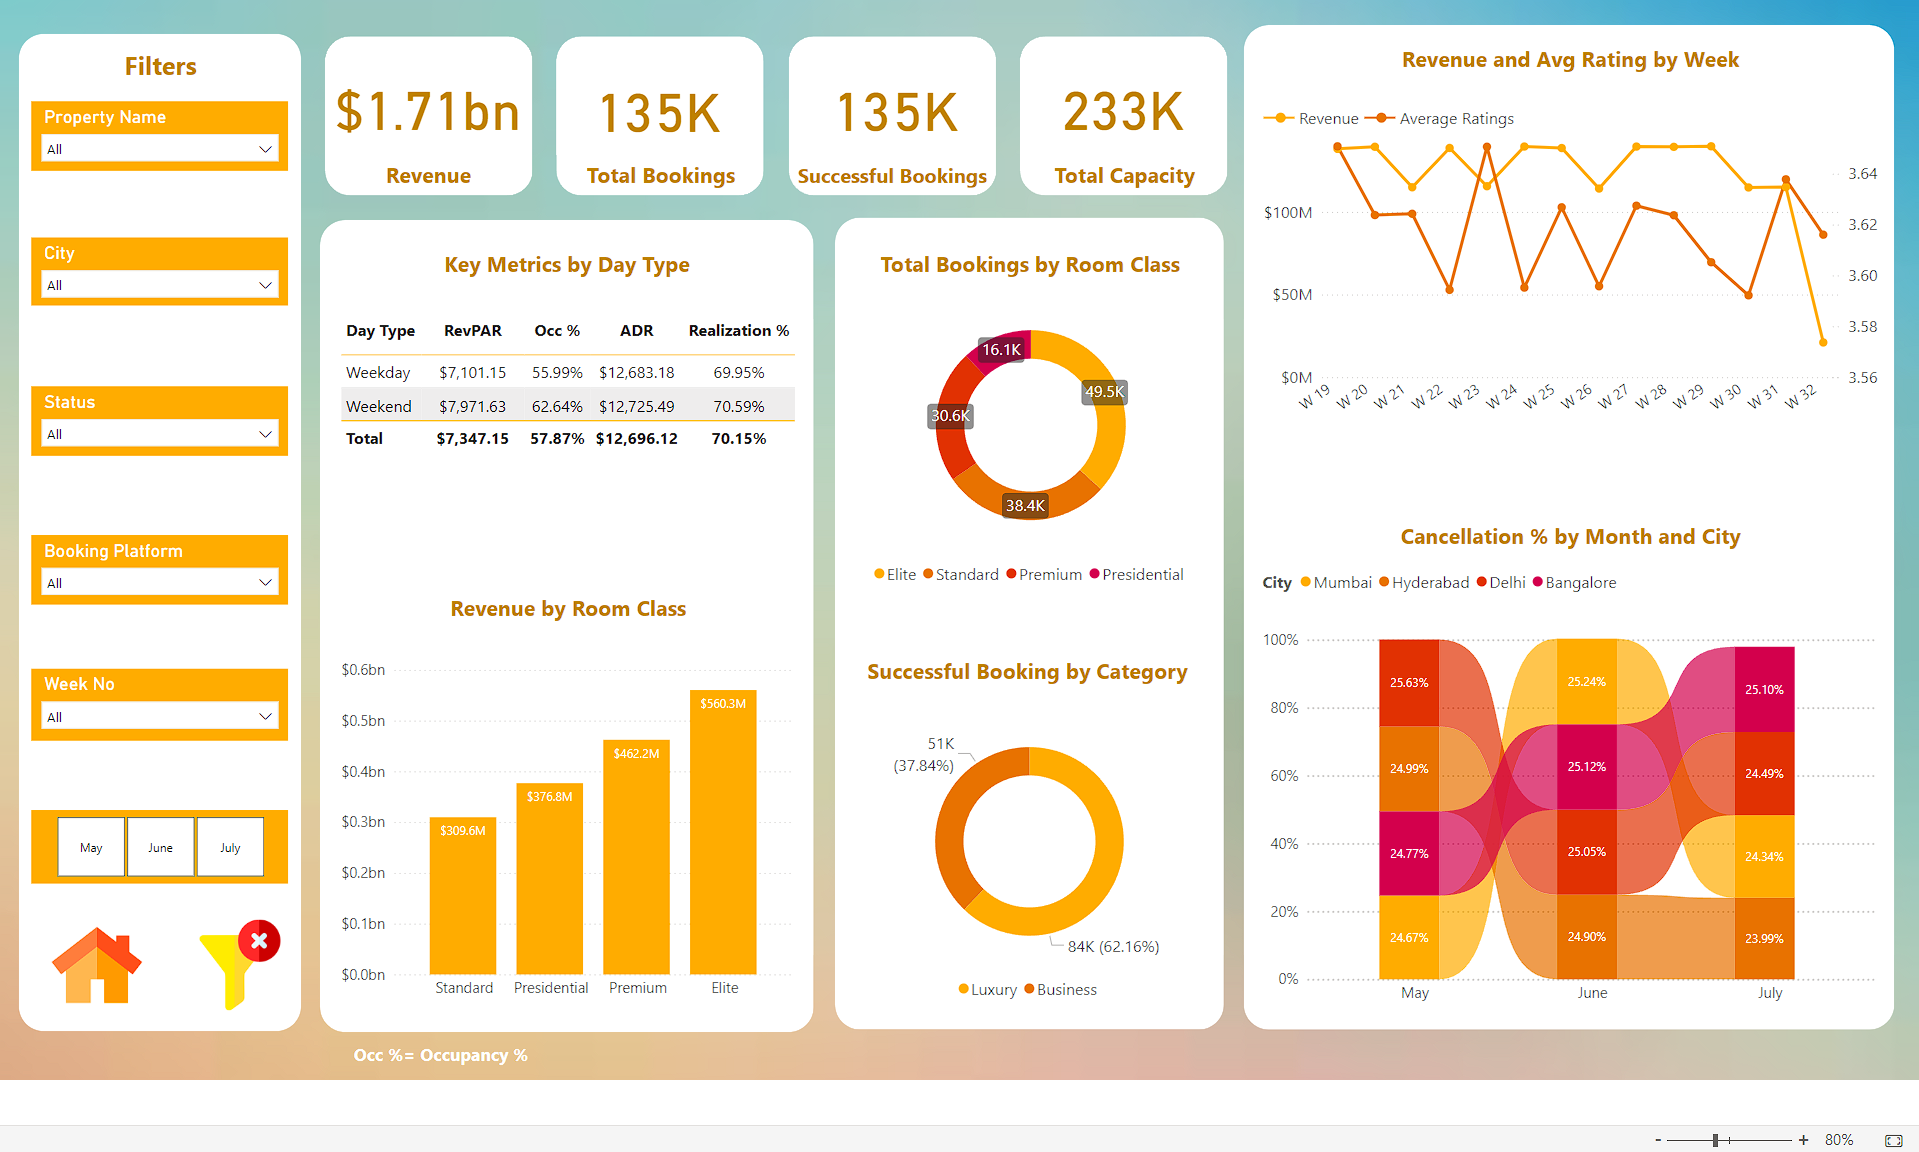

This screenshot's page, from the dashboard's own definition file:
{"tool":"powerbi","page":{"name":"KPI View","canvas":[1920,1080],"ordinal":2},"visuals":[{"type":"shape","box":[1243.2,24.5,650.6,1004.7],"z":0,"group":"g4"},{"type":"shape","box":[19.1,34.3,282.4,997.5],"z":0,"group":"g5"},{"type":"group","id":"g1","title":"KPI Cards","box":[324.4,36.3,902.8,159.2],"z":0},{"type":"shape","box":[324.4,36.3,207.6,159.2],"z":0,"group":"g1"},{"type":"shape","box":[835.5,218,388.9,812.1],"z":0,"group":"g2"},{"type":"shape","box":[320.4,219.6,493.7,812.1],"z":0,"group":"g3"},{"type":"shape","box":[556.1,36.3,207.6,159.2],"z":1000,"group":"g1"},{"type":"lineChart","fields":{"Y":["DAX Measures.Revenue"],"Category":["dim_date.week no"],"Y2":["DAX Measures.Average Ratings"]},"box":[1257.9,95.4,624.7,337.1],"z":1000,"group":"g4"},{"type":"group","id":"g2","title":"Donuts","box":[835.5,218,388.9,812.1],"z":1000},{"type":"donutChart","fields":{"Category":["dim_hotels.category"],"Y":["DAX Measures.Total Successful Bookings"]},"box":[847.8,706.5,364.3,302.7],"z":1000,"group":"g2"},{"type":"slicer","fields":{"Values":["dim_date.date.Variation.Date Hierarchy.Month"]},"box":[31.5,810.8,256.9,73.4],"z":1000,"group":"g5"},{"type":"shape","box":[787.9,36.3,207.6,159.2],"z":2000,"group":"g1"},{"type":"slicer","fields":{"Values":["dim_hotels.property_name"]},"box":[31.9,102,256.9,69.9],"z":2000,"group":"g5"},{"type":"group","id":"g3","title":"Columns","box":[320.4,219.6,493.7,812.1],"z":2000},{"type":"donutChart","fields":{"Y":["DAX Measures.Total Bookings"],"Category":["dim_rooms.room_class"]},"box":[848.6,289.5,364.5,305.2],"z":2000,"group":"g2"},{"type":"ribbonChart","fields":{"Y":["DAX Measures.Cancellation %"],"Series":["dim_hotels.city"],"Category":["dim_date.mmm yy.Variation.Date Hierarchy.Month"]},"box":[1256.8,560.1,624.7,453.5],"z":2000,"group":"g4"},{"type":"clusteredColumnChart","fields":{"Y":["DAX Measures.Revenue"],"Category":["dim_rooms.room_class"]},"box":[336,652.6,463.1,356.1],"z":2000,"group":"g3"},{"type":"group","id":"g4","title":"charts","box":[1243.2,24.5,650.6,1004.7],"z":3000},{"type":"shape","box":[1019.6,36.3,207.6,159.2],"z":3000,"group":"g1"},{"type":"slicer","fields":{"Values":["dim_hotels.city"]},"box":[31.9,238.3,256.9,68.1],"z":3000,"group":"g5"},{"type":"card","fields":{"Values":["DAX Measures.Total Successful Bookings"]},"box":[797.7,57.6,196.5,94.8],"z":4000},{"type":"slicer","fields":{"Values":["fact_bookings.booking_status"]},"box":[31.9,386.8,256.9,69.9],"z":4000,"group":"g5"},{"type":"card","fields":{"Values":["DAX Measures.Revenue"]},"box":[325,57.7,206.2,94.4],"z":5000},{"type":"slicer","fields":{"Values":["fact_bookings.booking_platform"]},"box":[31.9,535.3,256.9,69.9],"z":5000,"group":"g5"},{"type":"card","fields":{"Values":["DAX Measures.Total Capacity"]},"box":[1020.5,57.7,206.2,94.4],"z":6000},{"type":"slicer","fields":{"Values":["dim_date.week no"]},"box":[31.9,669.9,256.9,71.6],"z":6000,"group":"g5"},{"type":"card","fields":{"Values":["DAX Measures.Total Bookings"]},"box":[556.8,58.6,203.6,95.6],"z":7000},{"type":"group","id":"g5","title":"Filters","box":[19.1,34.3,282.4,997.5],"z":8000},{"type":"shape","box":[323.3,152,209.7,43.7],"z":9000},{"type":"shape","box":[555.7,152,209.7,43.7],"z":10000},{"type":"shape","box":[788.1,152,209.7,43.7],"z":11000},{"type":"shape","box":[1020.5,152,209.7,43.7],"z":12000},{"type":"shape","box":[419.9,240.8,294.3,43.2],"z":13000},{"type":"shape","box":[432.2,584.6,271.7,45.3],"z":14000},{"type":"shape","box":[863.4,240.7,333.1,43.6],"z":15000},{"type":"shape","box":[861.6,648.8,333.1,43.6],"z":16000},{"type":"shape","box":[1369.9,36.7,401.9,43.7],"z":17000},{"type":"shape","box":[1369.9,513.7,401.9,43.7],"z":18000},{"type":"shape","box":[17.5,43.7,286.6,41.9],"z":19000},{"type":"image","box":[189.7,914.6,99.9,99.9],"z":20000},{"type":"image","box":[32.2,914.6,128.7,99.9],"z":21000},{"type":"shape","box":[325.2,1036.6,232,35.6],"z":22000},{"type":"tableEx","fields":{"Values":["dim_date.day type","DAX Measures.RevPAR","DAX Measures.Occupancy %","DAX Measures.ADR","DAX Measures.Realization %"]},"box":[334.9,307,465.7,170.9],"z":23000}]}

Visuals, with their boxes on the page's 1920x1080 design canvas (x1, y1, x2, y2). These are canvas units, not pixel positions in the 1919x1152 screenshot, which may show the page scaled, cropped or inside an application window:
shape: x1=1243 y1=24 x2=1894 y2=1029
shape: x1=19 y1=34 x2=302 y2=1032
"KPI Cards" group: x1=324 y1=36 x2=1227 y2=196
shape: x1=324 y1=36 x2=532 y2=196
shape: x1=836 y1=218 x2=1224 y2=1030
shape: x1=320 y1=220 x2=814 y2=1032
shape: x1=556 y1=36 x2=764 y2=196
lineChart - DAX Measures.Revenue x dim_date.week no: x1=1258 y1=95 x2=1883 y2=432
"Donuts" group: x1=836 y1=218 x2=1224 y2=1030
donutChart - dim_hotels.category x DAX Measures.Total Successful Bookings: x1=848 y1=706 x2=1212 y2=1009
slicer - dim_date.date.Variation.Date Hierarchy.Month: x1=32 y1=811 x2=288 y2=884
shape: x1=788 y1=36 x2=996 y2=196
slicer - dim_hotels.property_name: x1=32 y1=102 x2=289 y2=172
"Columns" group: x1=320 y1=220 x2=814 y2=1032
donutChart - DAX Measures.Total Bookings x dim_rooms.room_class: x1=849 y1=290 x2=1213 y2=595
ribbonChart - DAX Measures.Cancellation % x dim_hotels.city: x1=1257 y1=560 x2=1882 y2=1014
clusteredColumnChart - DAX Measures.Revenue x dim_rooms.room_class: x1=336 y1=653 x2=799 y2=1009
"charts" group: x1=1243 y1=24 x2=1894 y2=1029
shape: x1=1020 y1=36 x2=1227 y2=196
slicer - dim_hotels.city: x1=32 y1=238 x2=289 y2=306
card - DAX Measures.Total Successful Bookings: x1=798 y1=58 x2=994 y2=152
slicer - fact_bookings.booking_status: x1=32 y1=387 x2=289 y2=457
card - DAX Measures.Revenue: x1=325 y1=58 x2=531 y2=152
slicer - fact_bookings.booking_platform: x1=32 y1=535 x2=289 y2=605
card - DAX Measures.Total Capacity: x1=1020 y1=58 x2=1227 y2=152
slicer - dim_date.week no: x1=32 y1=670 x2=289 y2=742
card - DAX Measures.Total Bookings: x1=557 y1=59 x2=760 y2=154
"Filters" group: x1=19 y1=34 x2=302 y2=1032
shape: x1=323 y1=152 x2=533 y2=196
shape: x1=556 y1=152 x2=765 y2=196
shape: x1=788 y1=152 x2=998 y2=196
shape: x1=1020 y1=152 x2=1230 y2=196
shape: x1=420 y1=241 x2=714 y2=284
shape: x1=432 y1=585 x2=704 y2=630
shape: x1=863 y1=241 x2=1196 y2=284
shape: x1=862 y1=649 x2=1195 y2=692
shape: x1=1370 y1=37 x2=1772 y2=80
shape: x1=1370 y1=514 x2=1772 y2=557
shape: x1=18 y1=44 x2=304 y2=86
image: x1=190 y1=915 x2=290 y2=1014
image: x1=32 y1=915 x2=161 y2=1014
shape: x1=325 y1=1037 x2=557 y2=1072
tableEx - dim_date.day type x DAX Measures.RevPAR: x1=335 y1=307 x2=801 y2=478
